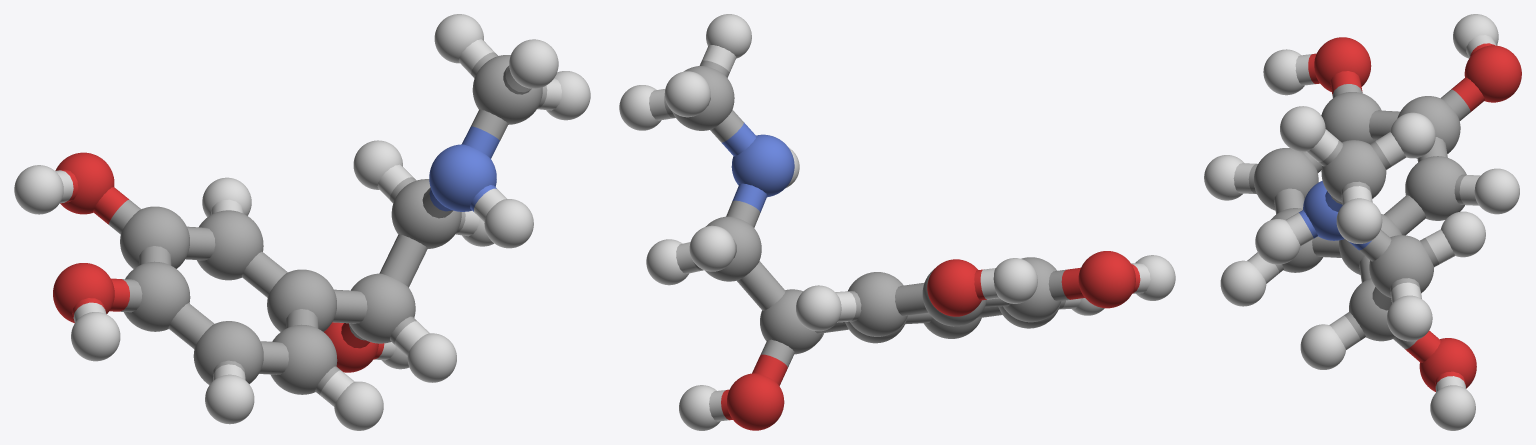
Rendered from 5816-bas-color-print_NIH3D.glb.
3 renders of one model, left to right at view 1: azimuth 30°, elevation 25°; view 2: azimuth 150°, elevation 25°; view 3: azimuth 270°, elevation 25°, orthographic. The views are drawn at different scales.
Parts seen in each view (by area): view 1: atoms, bonds; view 2: atoms, bonds; view 3: atoms, bonds.
Part boxes in pixels (x1=…): atoms: x1=14, y1=14, x2=590, y2=430; bonds: x1=55, y1=39, x2=561, y2=406; atoms: x1=619, y1=14, x2=1175, y2=430; bonds: x1=649, y1=45, x2=1150, y2=421; atoms: x1=1204, y1=14, x2=1521, y2=430; bonds: x1=1233, y1=35, x2=1496, y2=392.
Bounding box in the file's own units: 9.28 × 5.97 × 5.
